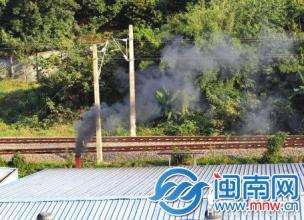smoke: (73, 36, 219, 155)
